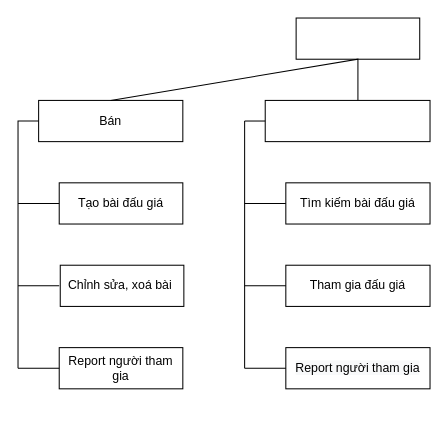
Image size: 448x423. Some labels were removed from this diagram. The shapes that lost their labels are listed below. From the top down, each one's box as (x1, y1, x2, y2) in pixels, then its label:
(295, 17, 420, 59): Người dùng
(264, 99, 430, 142): Mua
